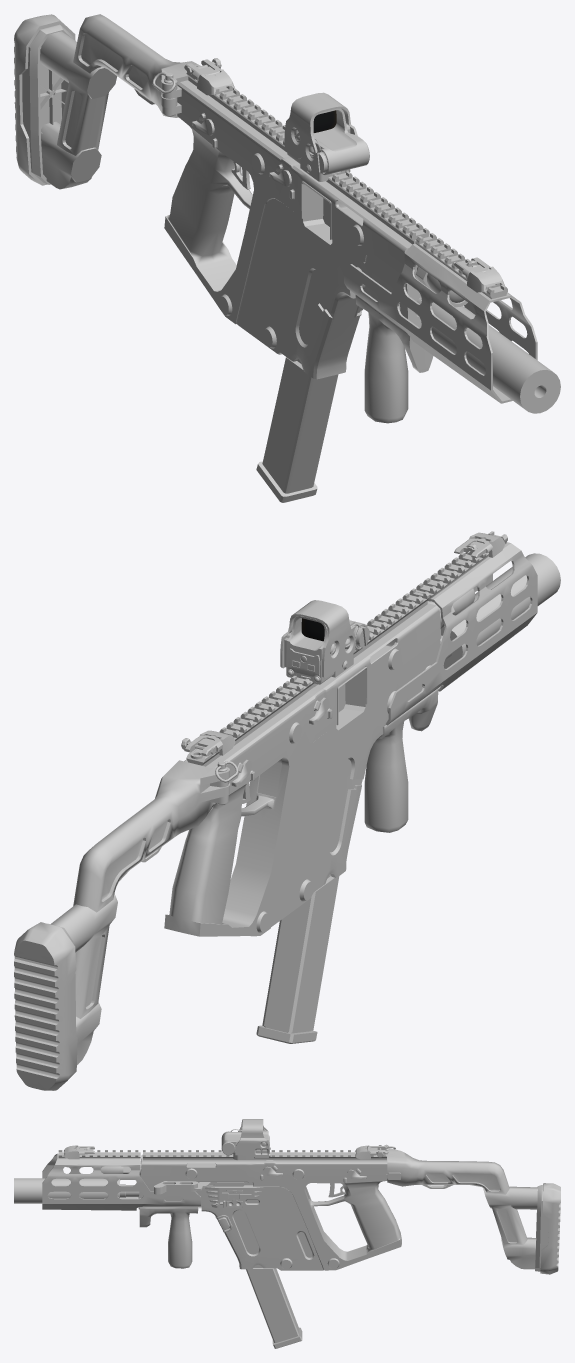
Rendered from KrissVector.fbx.
3 renders of one model, top to bottom at view 1: azimuth 30°, elevation 25°; view 2: azimuth 150°, elevation 25°; view 3: azimuth 270°, elevation 25°, orthographic. The views are drawn at different scales.
Parts seen in each view (by area): view 1: krissVector_Body_Low, krissVector_Stock_Low, krissVector_Shroud_Low, krissVector_Magazine_Low, krissVector_StockBackplate_Low, krissVector_Picatinny_Low, krissVector_ForeGrip_Low, krissVector_Suppressor_Low, krissVector_EOTech_Main_Low, krissVector_EOTech_Case_Low, krissVector_RearSight_Low, krissVector_FrontSight_Low (+1 smaller); view 2: krissVector_Body_Low, krissVector_Stock_Low, krissVector_StockBackplate_Low, krissVector_Shroud_Low, krissVector_Magazine_Low, krissVector_Picatinny_Low, krissVector_ForeGrip_Low, krissVector_Suppressor_Low, krissVector_EOTech_Case_Low, krissVector_EOTech_Main_Low, krissVector_RearSight_Low, krissVector_FrontSight_Low (+1 smaller); view 3: krissVector_Body_Low, krissVector_Stock_Low, krissVector_Shroud_Low, krissVector_Picatinny_Low, krissVector_Magazine_Low, krissVector_StockBackplate_Low, krissVector_ForeGrip_Low, krissVector_Suppressor_Low, krissVector_EOTech_Case_Low, krissVector_EOTech_Main_Low, krissVector_ChargingHandle2_Low, krissVector_SidePlate_Low (+2 smaller).
Part boxes in pixels (<box>): krissVector_Body_Low: <box>164,80,429,379</box>; krissVector_Stock_Low: <box>40,14,199,189</box>; krissVector_Shroud_Low: <box>344,243,537,403</box>; krissVector_Magazine_Low: <box>256,357,338,502</box>; krissVector_StockBackplate_Low: <box>14,14,75,185</box>; krissVector_Picatinny_Low: <box>186,73,507,299</box>; krissVector_ForeGrip_Low: <box>355,295,433,423</box>; krissVector_Suppressor_Low: <box>431,303,560,413</box>; krissVector_EOTech_Main_Low: <box>287,108,369,175</box>; krissVector_EOTech_Case_Low: <box>284,92,357,167</box>; krissVector_RearSight_Low: <box>184,58,235,95</box>; krissVector_FrontSight_Low: <box>454,257,504,292</box>; krissVector_Body_Low: <box>164,603,441,936</box>; krissVector_Stock_Low: <box>50,760,229,1064</box>; krissVector_StockBackplate_Low: <box>14,922,77,1090</box>; krissVector_Shroud_Low: <box>386,542,537,725</box>; krissVector_Magazine_Low: <box>256,874,339,1043</box>; krissVector_Picatinny_Low: <box>186,531,507,766</box>; krissVector_ForeGrip_Low: <box>364,688,438,832</box>; krissVector_Suppressor_Low: <box>441,553,560,668</box>; krissVector_EOTech_Case_Low: <box>280,600,355,678</box>; krissVector_EOTech_Main_Low: <box>284,616,366,684</box>; krissVector_RearSight_Low: <box>181,730,235,759</box>; krissVector_FrontSight_Low: <box>454,532,505,558</box>; krissVector_Body_Low: <box>138,1154,401,1270</box>; krissVector_Stock_Low: <box>387,1148,537,1269</box>; krissVector_Shroud_Low: <box>42,1153,200,1210</box>; krissVector_Picatinny_Low: <box>58,1150,386,1210</box>; krissVector_Magazine_Low: <box>246,1264,302,1348</box>; krissVector_StockBackplate_Low: <box>535,1183,560,1274</box>; krissVector_ForeGrip_Low: <box>139,1207,197,1268</box>; krissVector_Suppressor_Low: <box>14,1178,119,1203</box>; krissVector_EOTech_Case_Low: <box>235,1119,268,1157</box>; krissVector_EOTech_Main_Low: <box>221,1128,268,1158</box>; krissVector_ChargingHandle2_Low: <box>154,1181,197,1194</box>; krissVector_SidePlate_Low: <box>205,1187,265,1208</box>.
Size of the model in its own units: 12.5 by 56.96 by 127.
